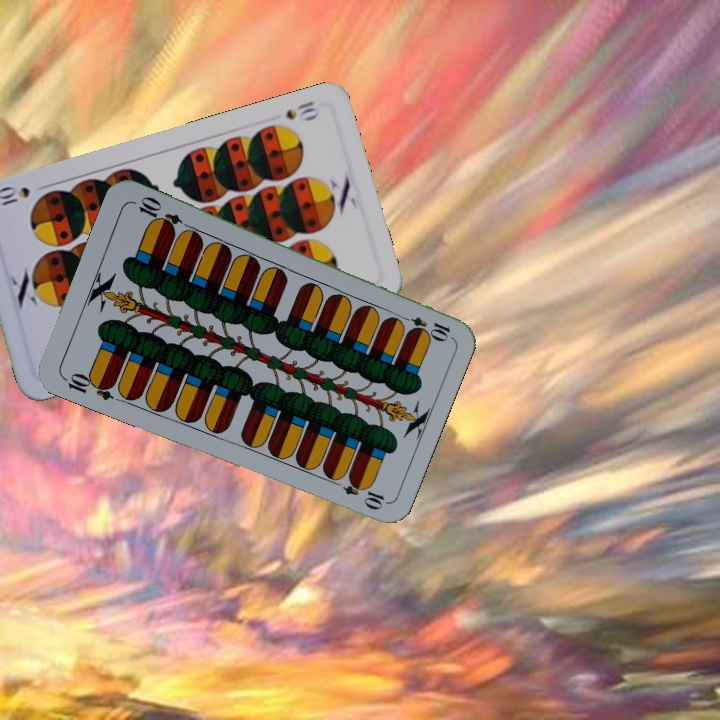E10: (59, 368, 118, 403), (395, 311, 453, 342)
S10: (281, 97, 322, 123)
